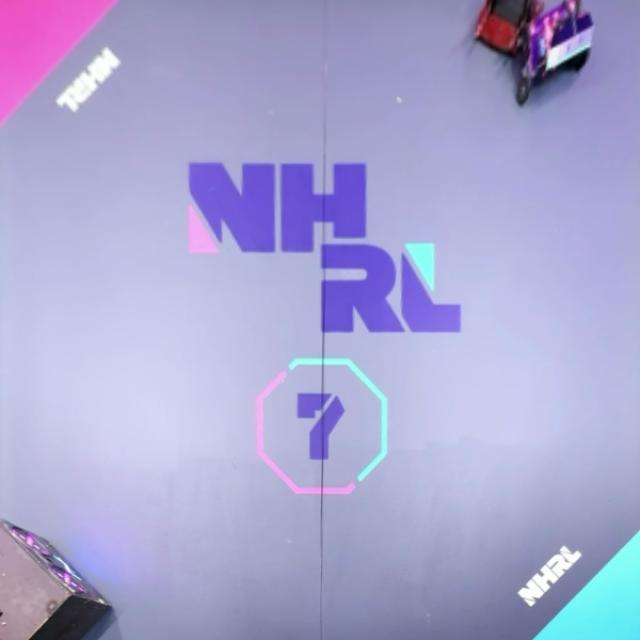housebot: (0, 517, 114, 640)
robot: (515, 0, 596, 102), (476, 0, 543, 58)
